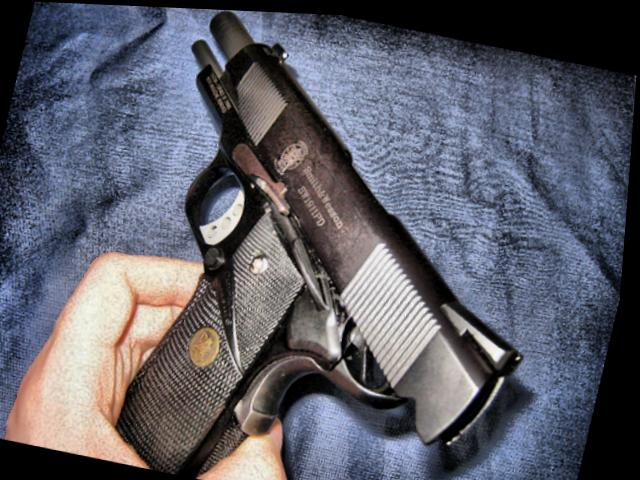pistol: (97, 4, 587, 480)
